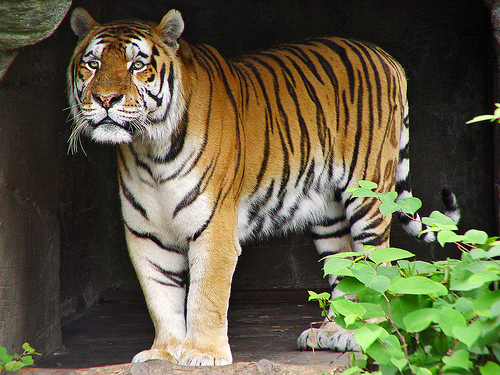Tigre: (60, 5, 432, 353)
